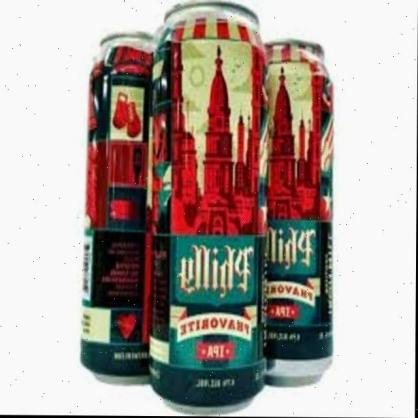can: (148, 8, 262, 407), (82, 28, 152, 382), (264, 41, 334, 388)
